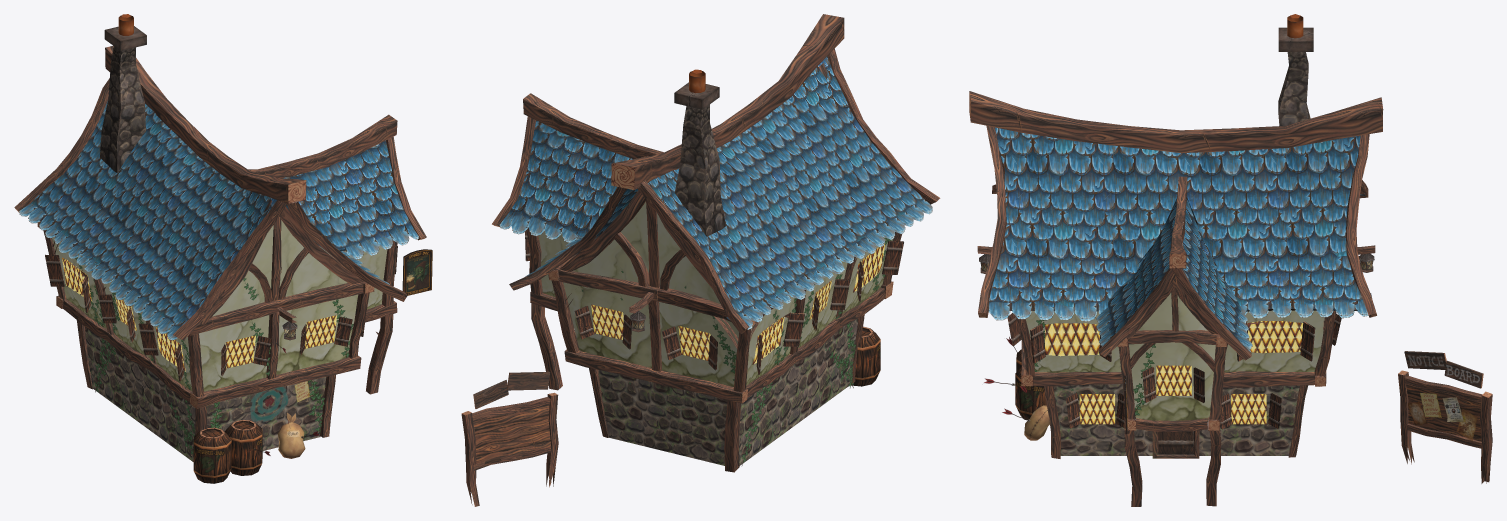
The model's file is gobble-inn.glb.
3 renders of one model, left to right at view 1: azimuth 30°, elevation 25°; view 2: azimuth 150°, elevation 25°; view 3: azimuth 270°, elevation 25°, orthographic. The views are drawn at different scales.
Parts seen in each view (by area): view 1: Object003_Material #246_0, Object003_wood_0, Object003_Material #377_0, Object003_Material #319_0, Object003_Material #492_0, Object003_Material #1116_0, Object003_Material #320_0, Object003_Material #413_0, Object003_Material #747_0, Object003_Material #1139_0; view 2: Object003_Material #246_0, Object003_wood_0, Object003_Material #377_0, Object003_Material #319_0, Object003_Material #492_0, Object003_Material #1116_0, Object003_Material #413_0, Object003_Material #320_0, Object003_Material #747_0; view 3: Object003_Material #246_0, Object003_wood_0, Object003_Material #377_0, Object003_Material #319_0, Object003_Material #492_0, Object003_Material #320_0, Object003_Material #413_0, Object003_Material #1116_0, Object003_Material #1139_0.
Part boxes in pixels (x1,y1,x2,y2): Object003_Material #246_0: (30, 101, 413, 328); Object003_wood_0: (14, 45, 426, 437); Object003_Material #377_0: (52, 220, 387, 391); Object003_Material #319_0: (85, 327, 326, 461); Object003_Material #492_0: (19, 14, 418, 340); Object003_Material #1116_0: (193, 420, 305, 483); Object003_Material #320_0: (62, 249, 432, 371); Object003_Material #413_0: (45, 246, 397, 381); Object003_Material #747_0: (75, 257, 353, 454); Object003_Material #1139_0: (239, 342, 319, 455); Object003_Material #246_0: (509, 56, 924, 318); Object003_wood_0: (461, 14, 940, 506); Object003_Material #377_0: (538, 201, 892, 386); Object003_Material #319_0: (598, 318, 858, 465); Object003_Material #492_0: (499, 69, 932, 332); Object003_Material #1116_0: (473, 326, 880, 464); Object003_Material #413_0: (525, 230, 903, 374); Object003_Material #320_0: (591, 244, 884, 364); Object003_Material #747_0: (581, 237, 893, 466); Object003_Material #246_0: (988, 127, 1365, 340); Object003_wood_0: (969, 91, 1492, 506); Object003_Material #377_0: (1025, 293, 1324, 421); Object003_Material #319_0: (1054, 384, 1299, 455); Object003_Material #492_0: (979, 14, 1374, 352); Object003_Material #320_0: (1045, 321, 1303, 434); Object003_Material #413_0: (1007, 313, 1341, 458); Object003_Material #1116_0: (1015, 349, 1483, 441); Object003_Material #1139_0: (984, 336, 1441, 421).
Bounding box in the file's own units: 1461 × 1765 × 1912.
13 materials, 13 textured.
